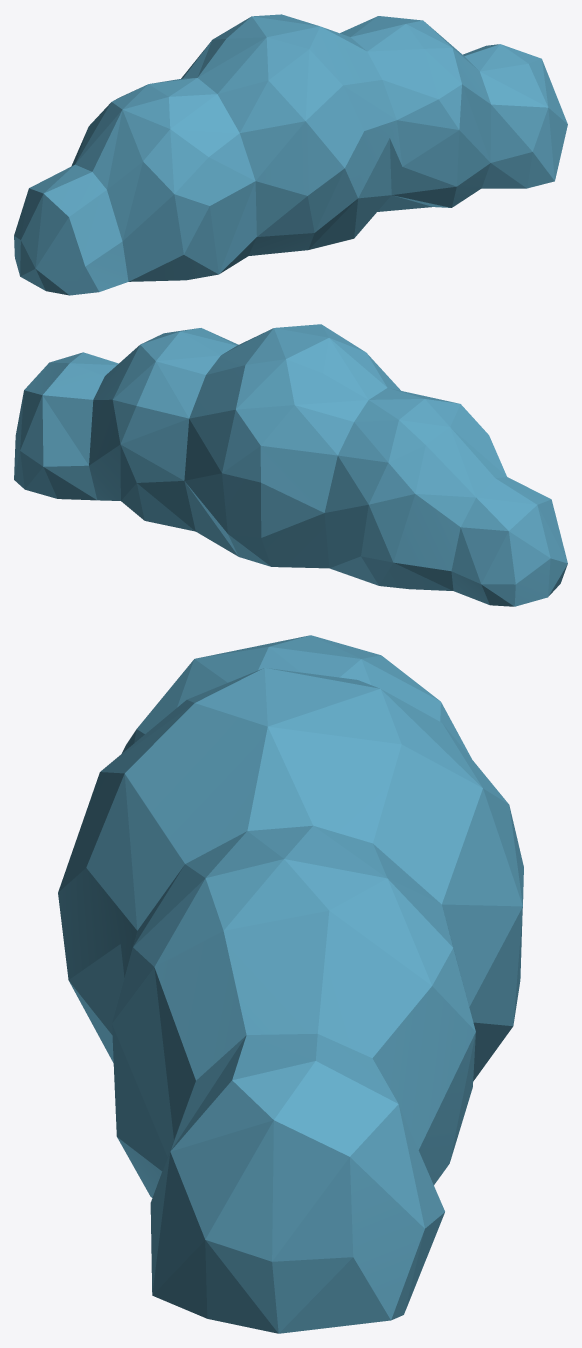
The model's file is small_cloud_22.fbx.
3 views of the same model, one above another, from view 1: azimuth 30°, elevation 25°; view 2: azimuth 150°, elevation 25°; view 3: azimuth 270°, elevation 25° (orthographic). The views are drawn at different scales.
Parts seen in each view (by area): view 1: cloud_32; view 2: cloud_32; view 3: cloud_32.
Boxes of the visible parts, bbox=[...] form: cloud_32: bbox=[14, 14, 567, 295]; cloud_32: bbox=[14, 324, 567, 606]; cloud_32: bbox=[58, 635, 523, 1333].
Bounding box in the file's own units: 592 × 213 × 226.
